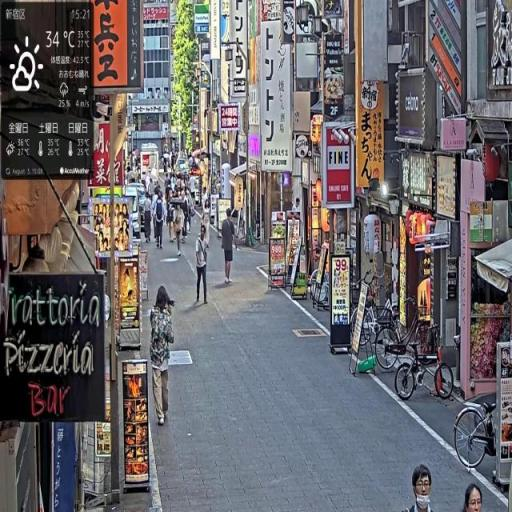person: (151, 284, 176, 428), (221, 210, 239, 287), (195, 223, 211, 306), (154, 189, 167, 249)
